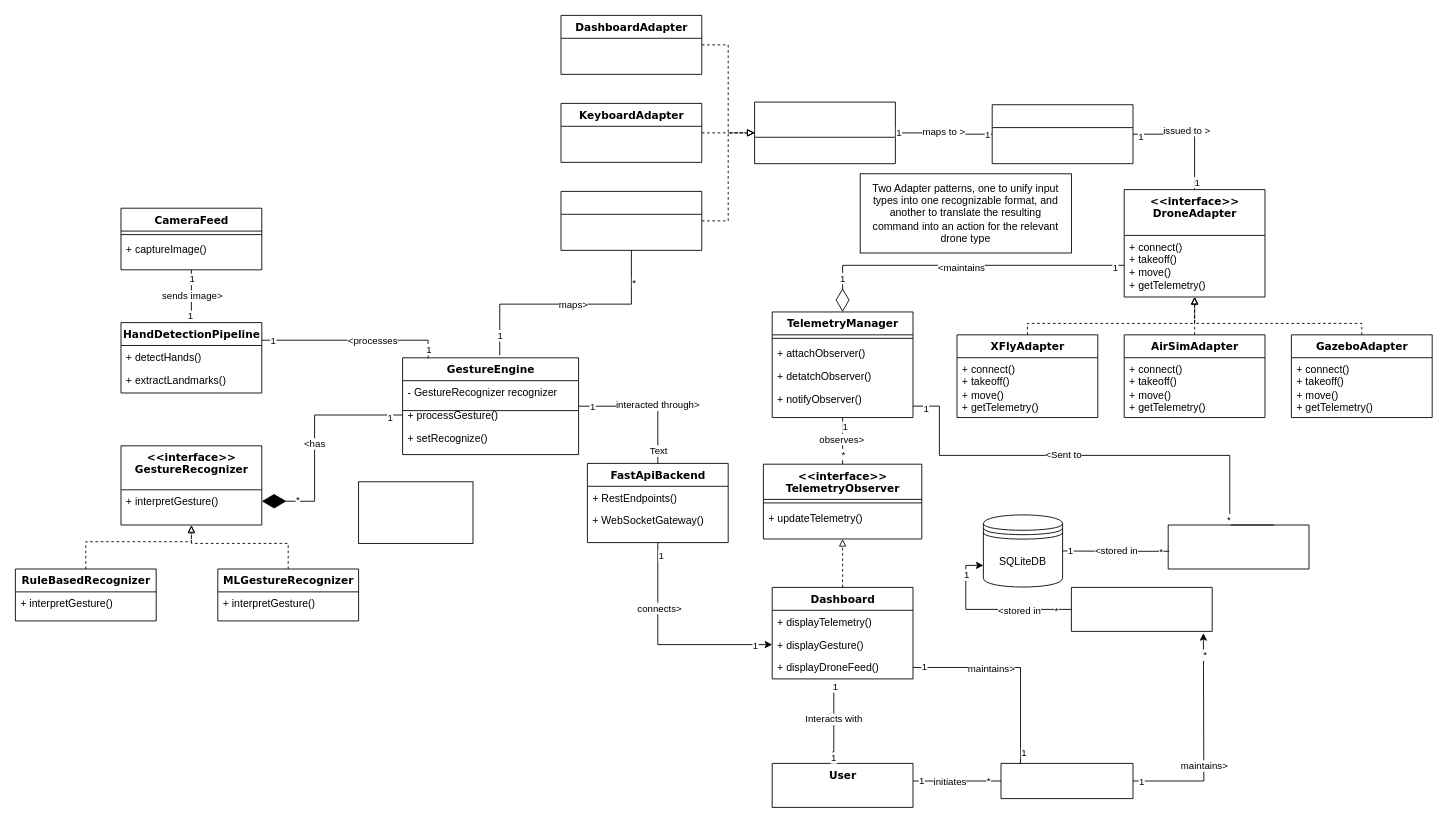
The diagram is 1448 pixels wide and 823 high, and some of its shapes have lost their labels. The centre of each missing label's shape, as x and y in pixels:
<<interface>> InputAdapter: the point at 824,132
Command: the point at 1062,134
ControlSession: the point at 1066,781
GestureAdapter: the point at 631,220
GestureLog: the point at 1141,609
Strategy pattern to dynamically choose which recognition method to use.: the point at 415,512
TelemetryData: the point at 1238,546
